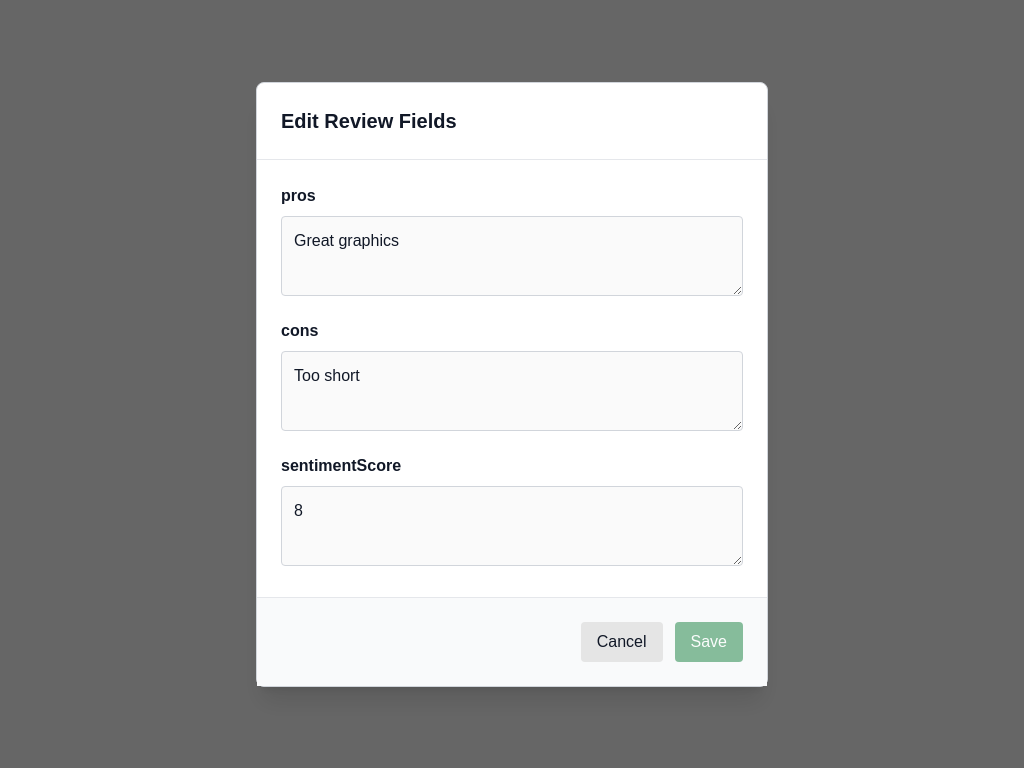
it: EditReviewModal › shows loading state while saving
This screenshot has width=1024, height=768.
Replace the text in the text box showing "Great graphics" below "pros" with "Amazing visuals" at (512,256), box x1=281 y1=216 x2=743 y2=296
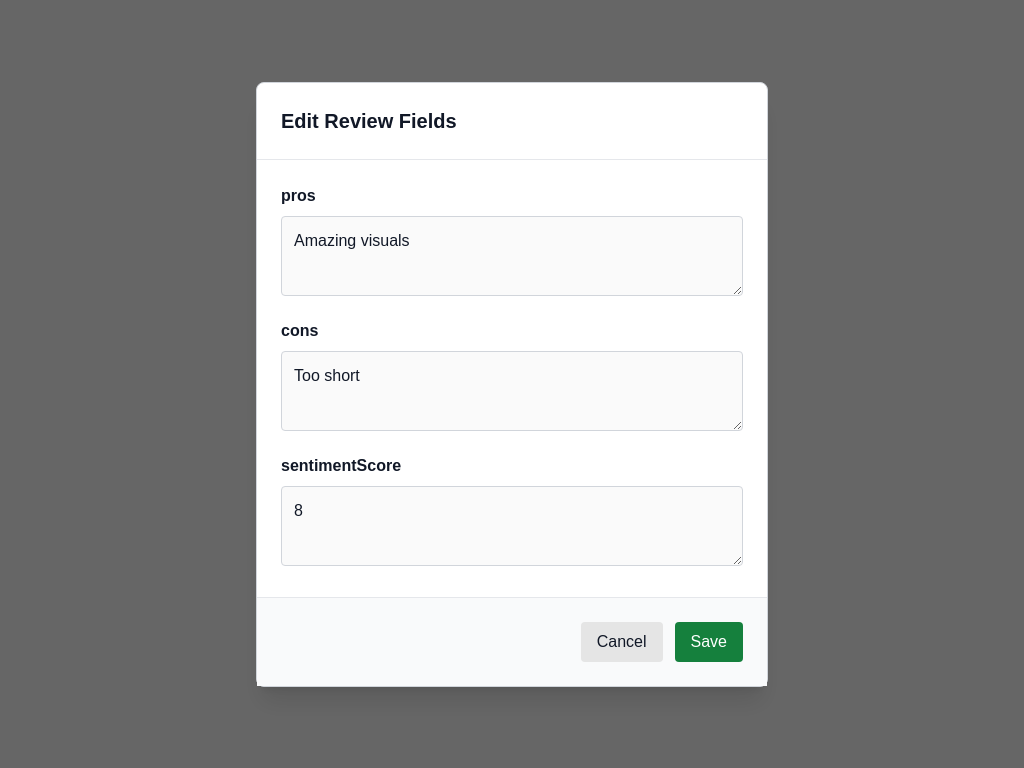
Click the button "Save" at (709,642), box x1=674 y1=622 x2=743 y2=662
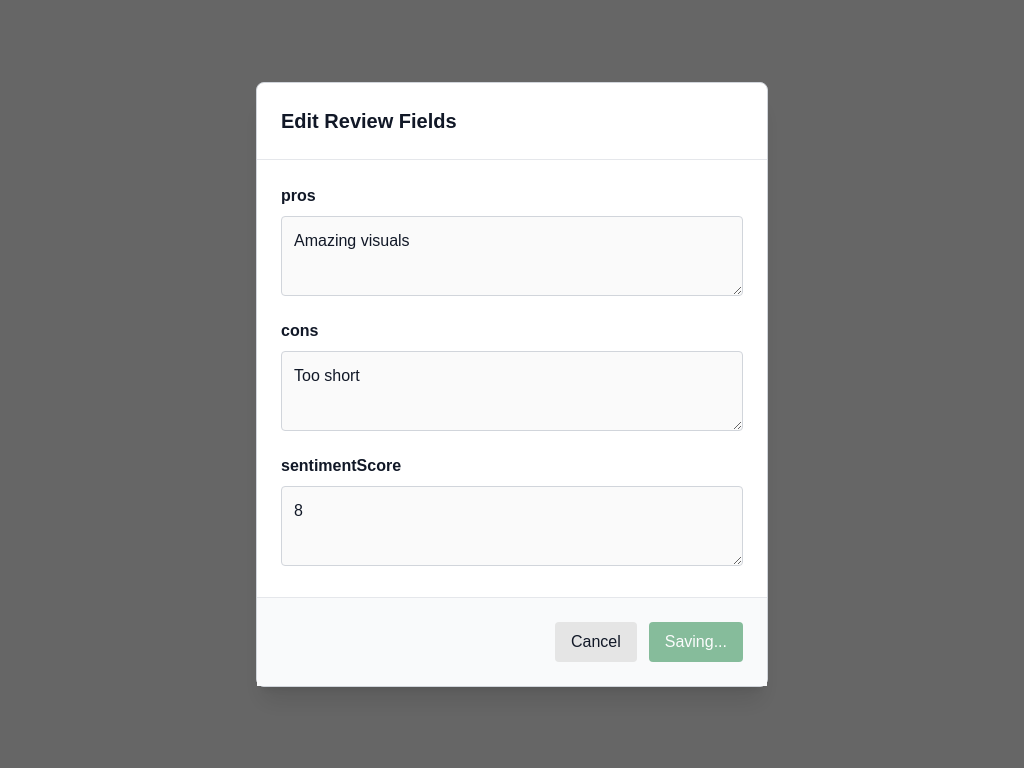
Expected: the button "Saving..." is disabled, x1=649 y1=622 x2=743 y2=662
